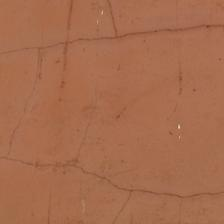Crack: (0, 1, 136, 222), (77, 62, 146, 162), (11, 30, 46, 61)
